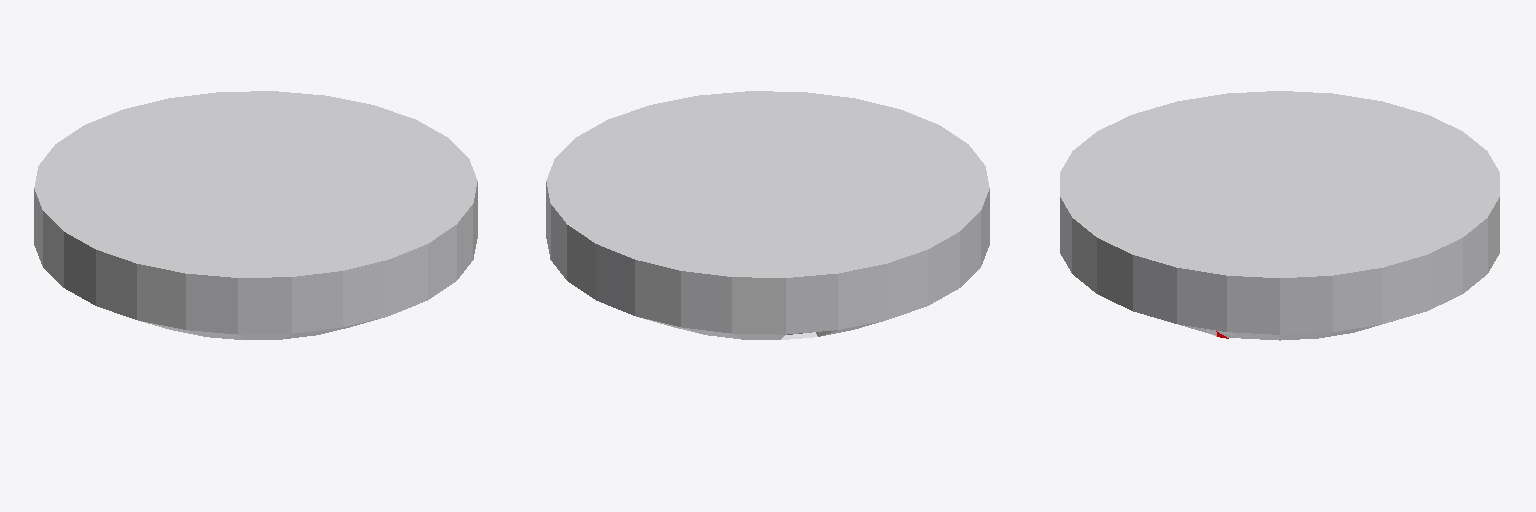
Rendered from OccupancySensor.obj.
3 views of the same model, side by side, from view 1: azimuth 30°, elevation 25°; view 2: azimuth 150°, elevation 25°; view 3: azimuth 270°, elevation 25° (orthographic).
Parts seen in each view (by area): view 1: OccupancySensor.obj; view 2: OccupancySensor.obj; view 3: OccupancySensor.obj.
Part boxes in pixels (x1,y1,x2,y2): OccupancySensor.obj: (34,91,477,339); OccupancySensor.obj: (546,91,989,339); OccupancySensor.obj: (1060,91,1499,340).
Bounding box in the file's own units: 1.06 × 0.3768 × 1.05.